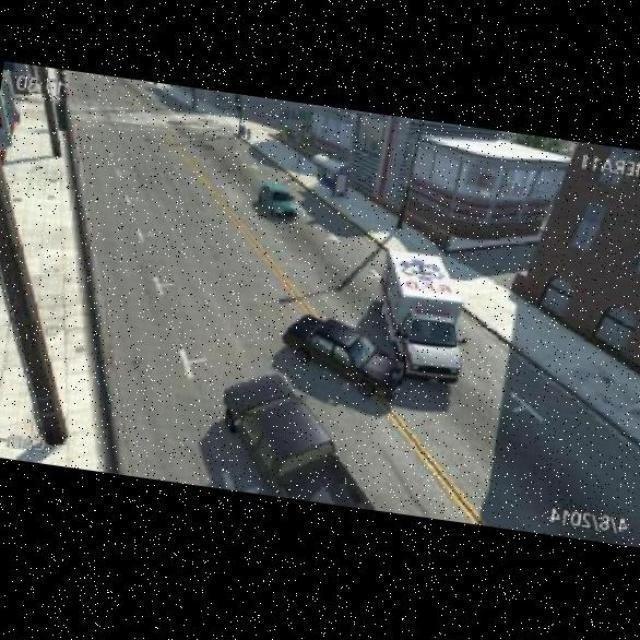accident: (277, 285, 479, 412)
